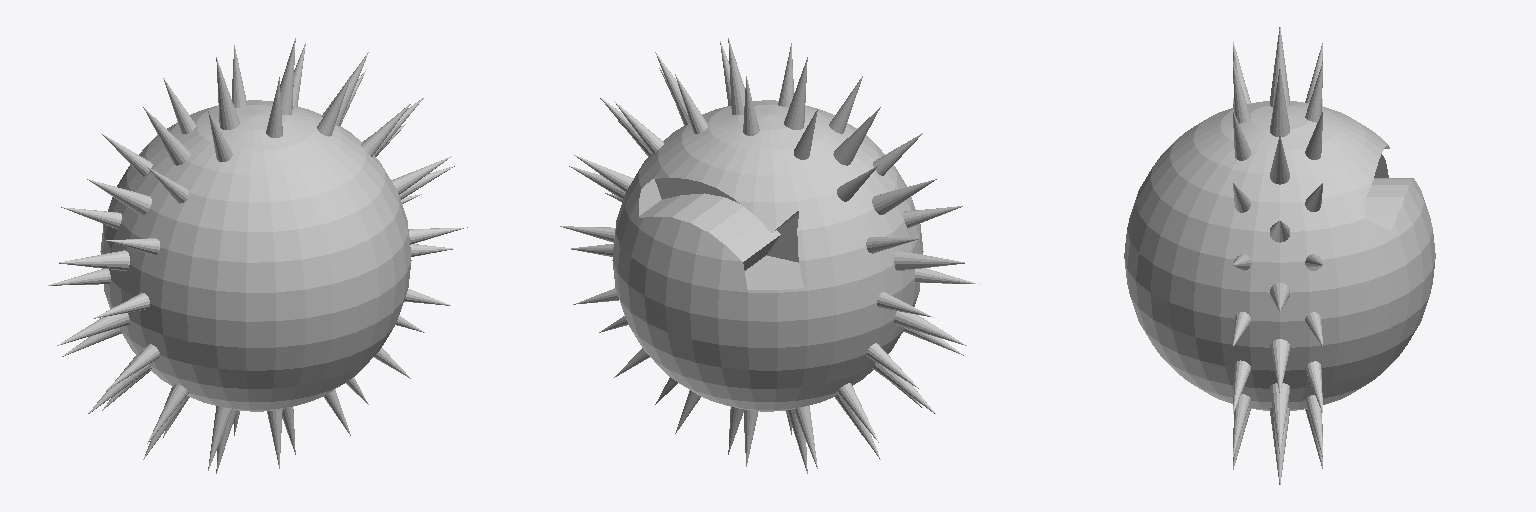
The model's file is SpikeBall3.obj.
3 renders of one model, left to right at view 1: azimuth 30°, elevation 25°; view 2: azimuth 150°, elevation 25°; view 3: azimuth 270°, elevation 25°, orthographic.
Parts seen in each view (by area): view 1: Sphere_Sphere.001; view 2: Sphere_Sphere.001; view 3: Sphere_Sphere.001.
Boxes of the visible parts, box(x1,y1,x2,y2) form: Sphere_Sphere.001: box(48, 38, 467, 473); Sphere_Sphere.001: box(560, 38, 979, 473); Sphere_Sphere.001: box(1124, 27, 1435, 484).
Bounding box in the file's own units: 0.4742 × 0.4742 × 0.32.